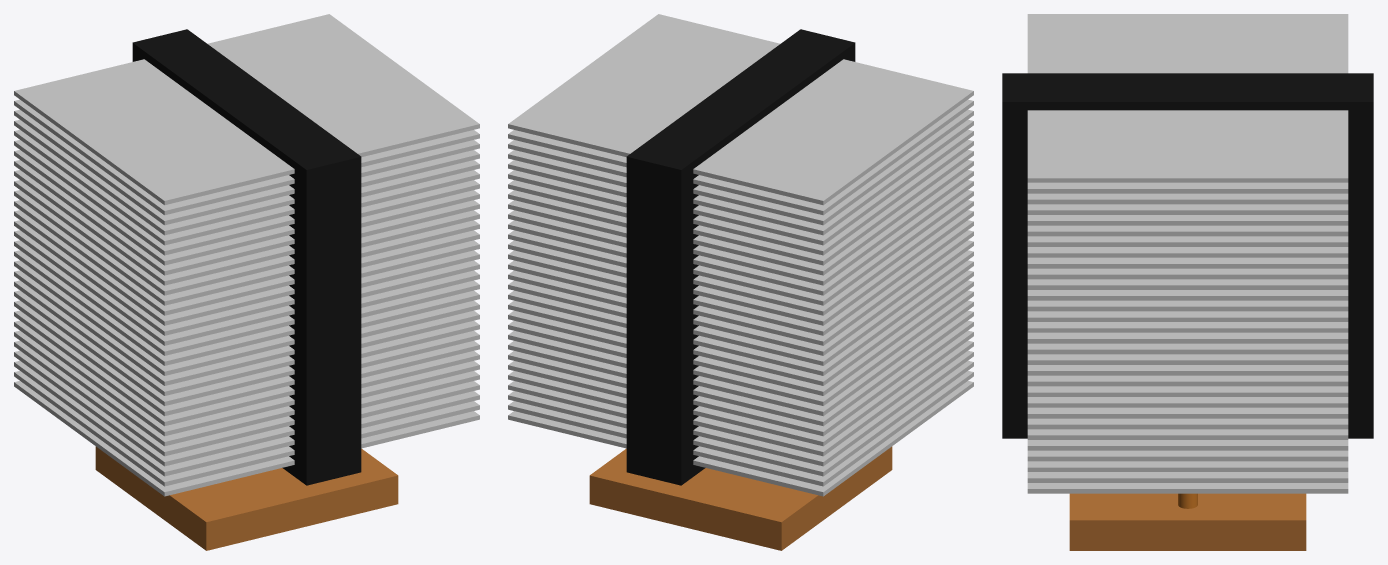
File: cooler.glb
The picture shows the model from 3 angles, left to right: view 1: azimuth 30°, elevation 25°; view 2: azimuth 150°, elevation 25°; view 3: azimuth 270°, elevation 25°; orthographic projection. The views are drawn at different scales.
Size of the model in its own units: 1.15 by 1.35 by 1.1.
